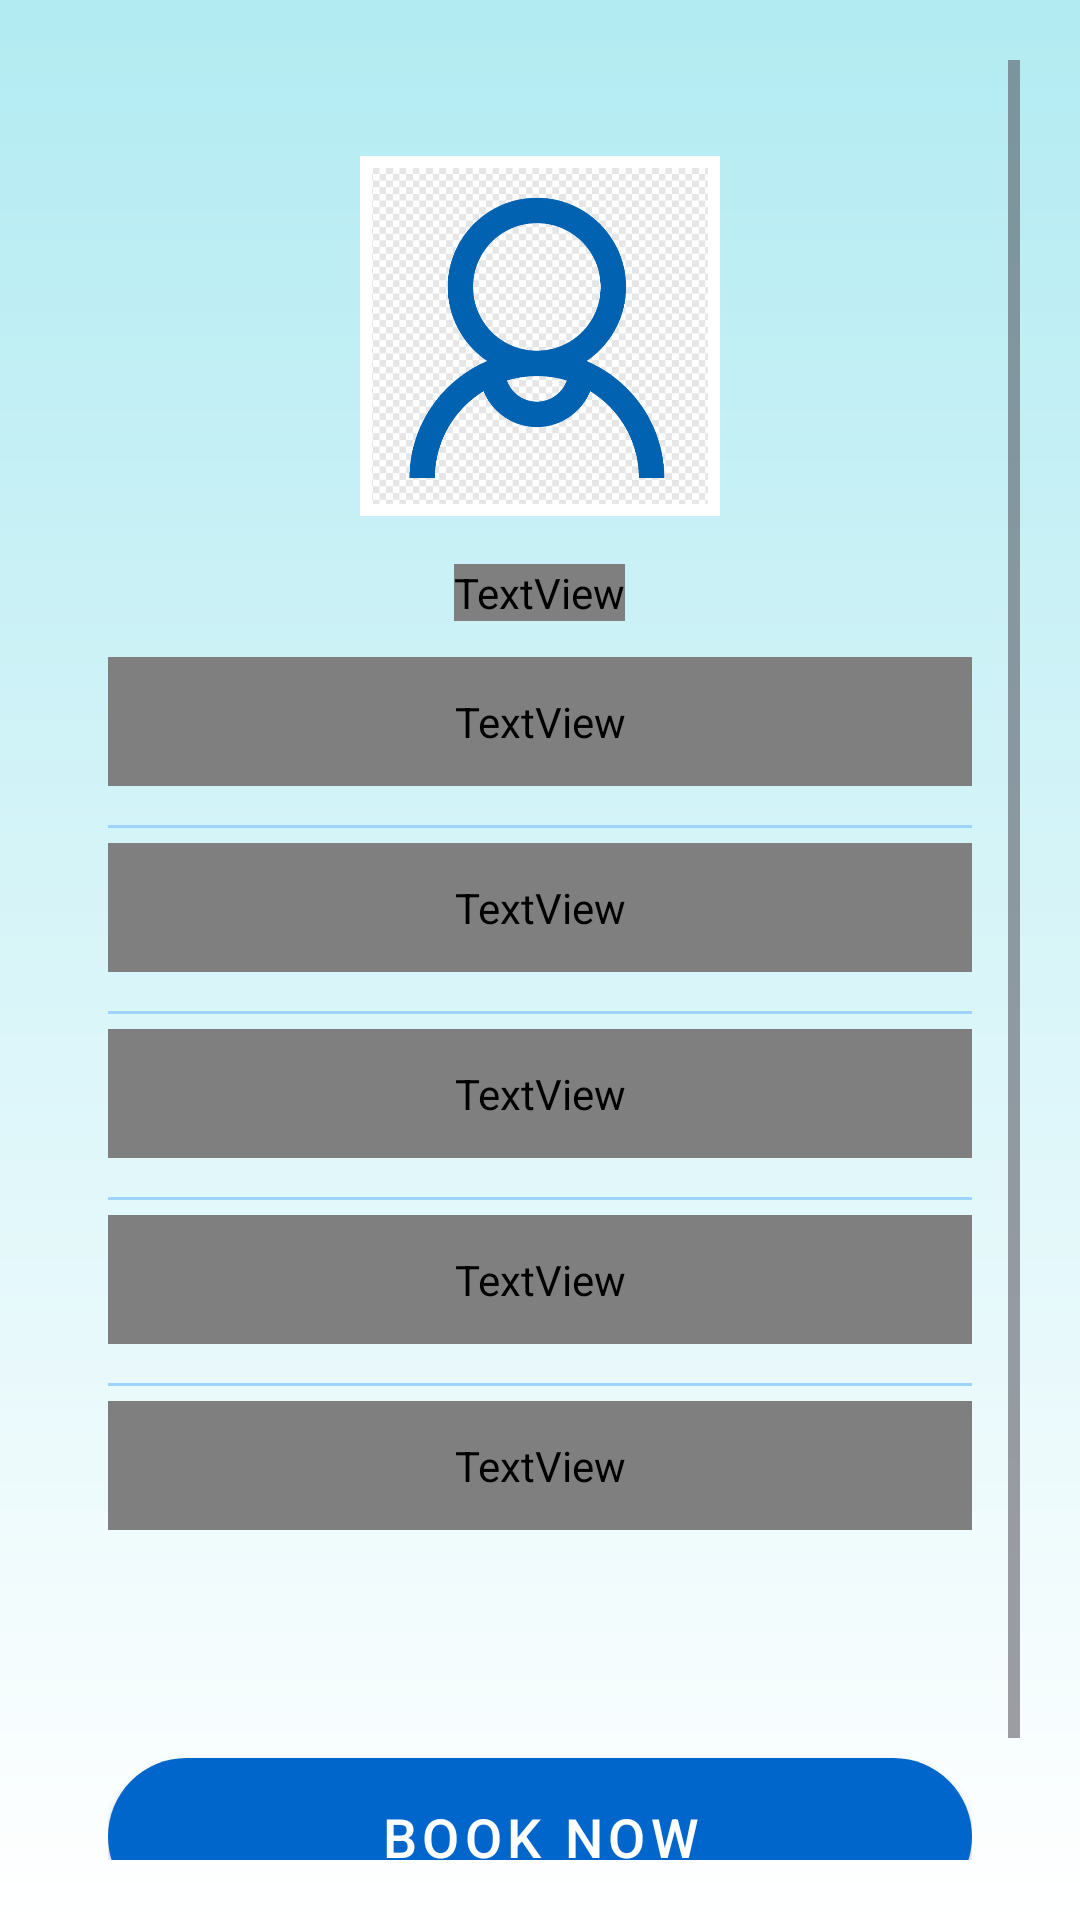

Icon click points for this 1080x1920 phone screenshot, format point (x, y):
Profile Picture: point (540, 336)
